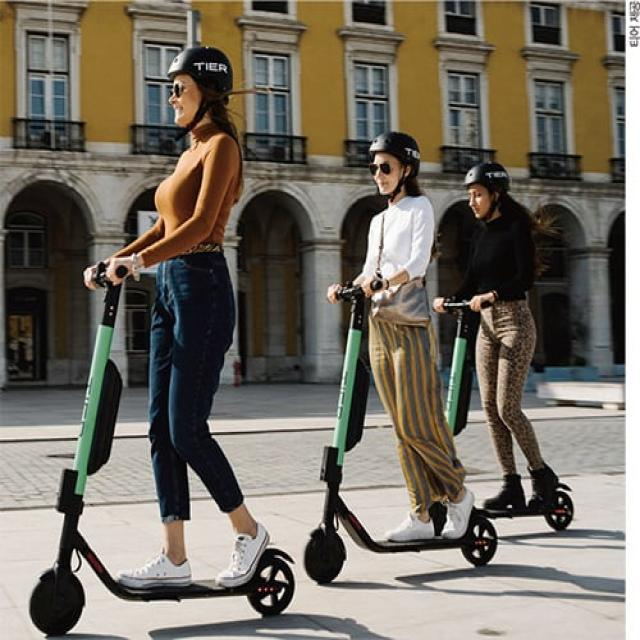helmet: (18, 36, 294, 626), (301, 97, 501, 581), (424, 132, 582, 537)
